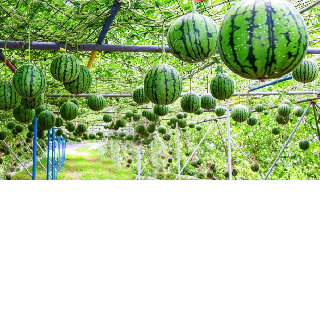dua_hau: (218, 1, 309, 81), (167, 12, 220, 64), (143, 64, 182, 107), (12, 62, 47, 100), (48, 53, 79, 83)
